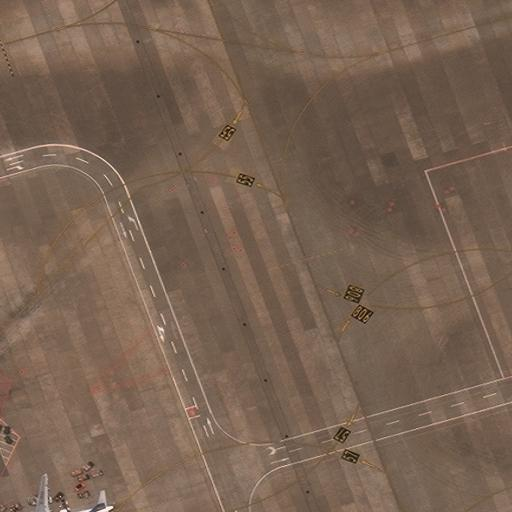Medium Civil Transport: (14, 473, 112, 511)
